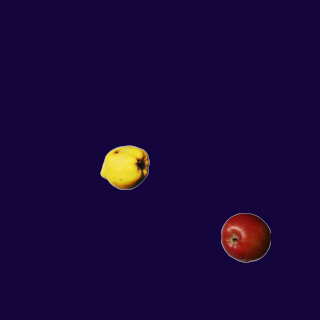Apple Braeburn: (220, 212, 270, 262)
Quince: (99, 142, 149, 192)
